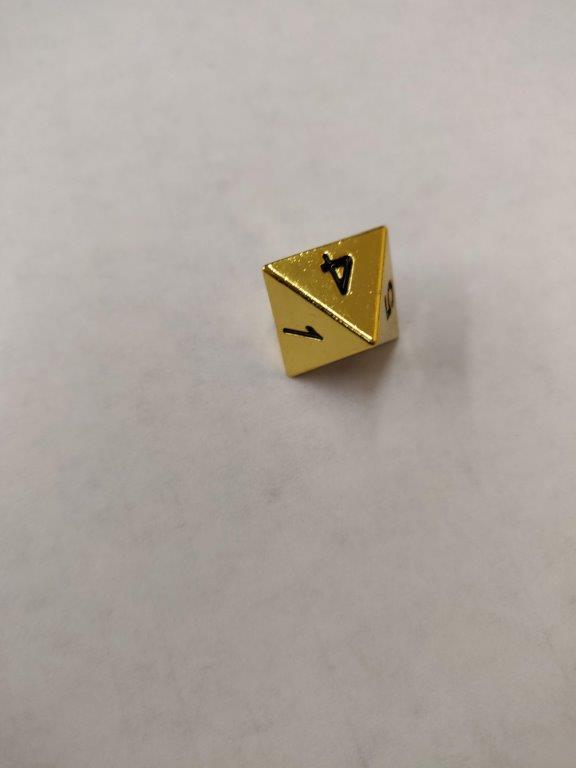d8-4: (264, 223, 405, 385)
